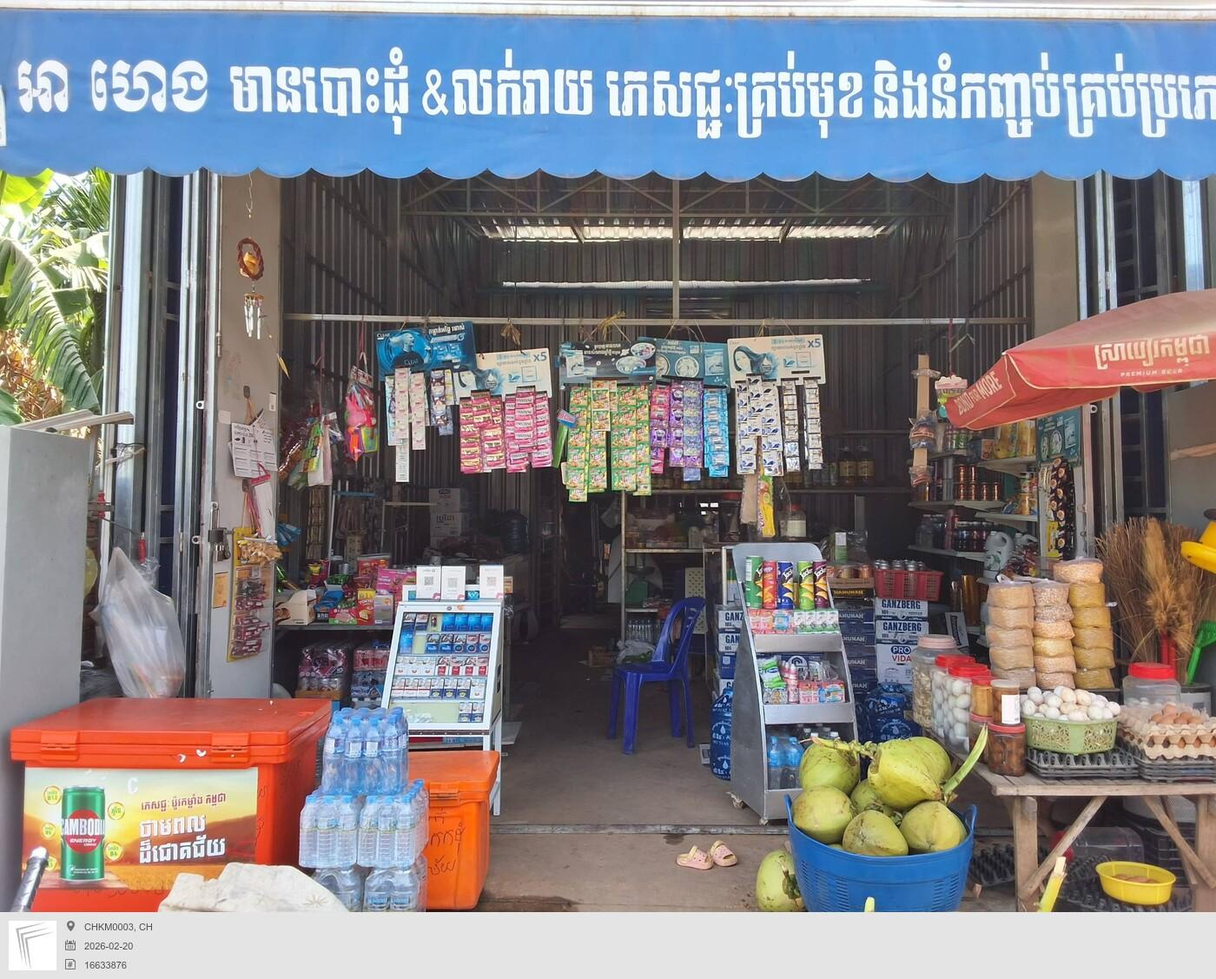cigarette_pack: (393, 656, 411, 678), (399, 631, 416, 654), (452, 632, 468, 654), (456, 701, 472, 723), (439, 612, 456, 632), (430, 677, 445, 699), (399, 612, 416, 631), (463, 656, 478, 677), (457, 678, 472, 699), (471, 678, 486, 699), (404, 678, 419, 698), (439, 633, 453, 654), (436, 655, 450, 676), (471, 702, 485, 723), (450, 655, 463, 677), (467, 613, 482, 632), (477, 634, 492, 653), (409, 656, 423, 676), (444, 678, 458, 698), (423, 655, 436, 676), (414, 613, 429, 631), (390, 679, 405, 697), (426, 632, 438, 654), (417, 679, 432, 696), (482, 613, 494, 634), (477, 656, 490, 675), (466, 633, 478, 653), (456, 613, 468, 632)
